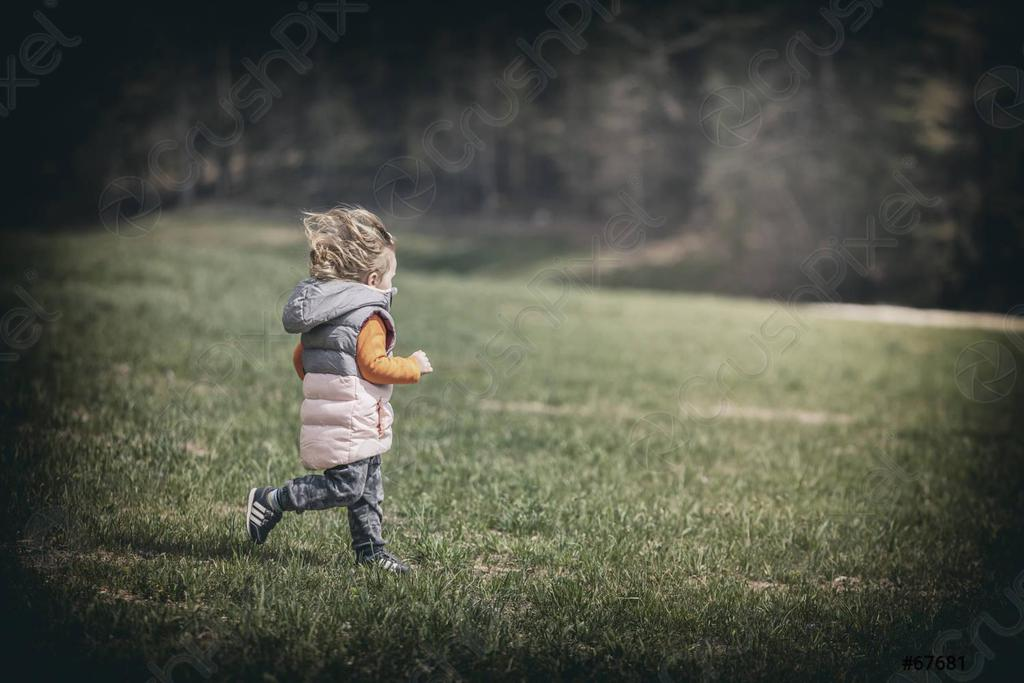child: (214, 187, 466, 589)
